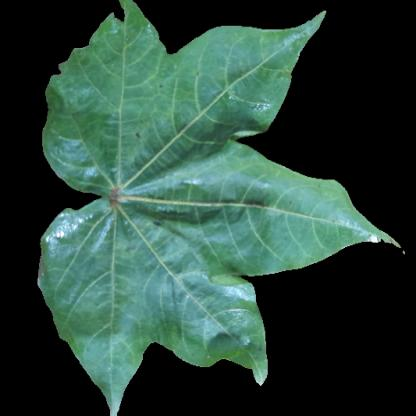curl_stage1: (143, 62, 204, 130)
healthy: (85, 231, 204, 325), (151, 131, 241, 221), (204, 181, 281, 271), (207, 35, 276, 130), (64, 53, 137, 123), (282, 174, 344, 255), (85, 126, 150, 188), (80, 322, 141, 383), (202, 289, 257, 354), (49, 238, 76, 306)
